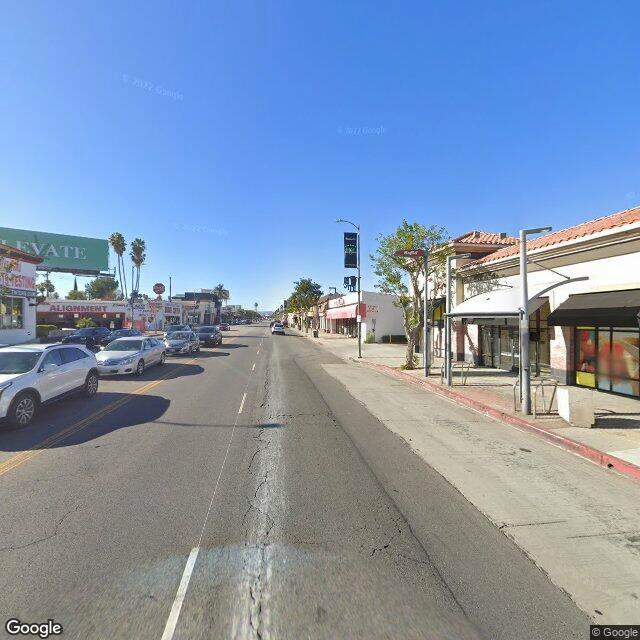crack: (228, 414, 298, 636), (0, 503, 84, 555)
